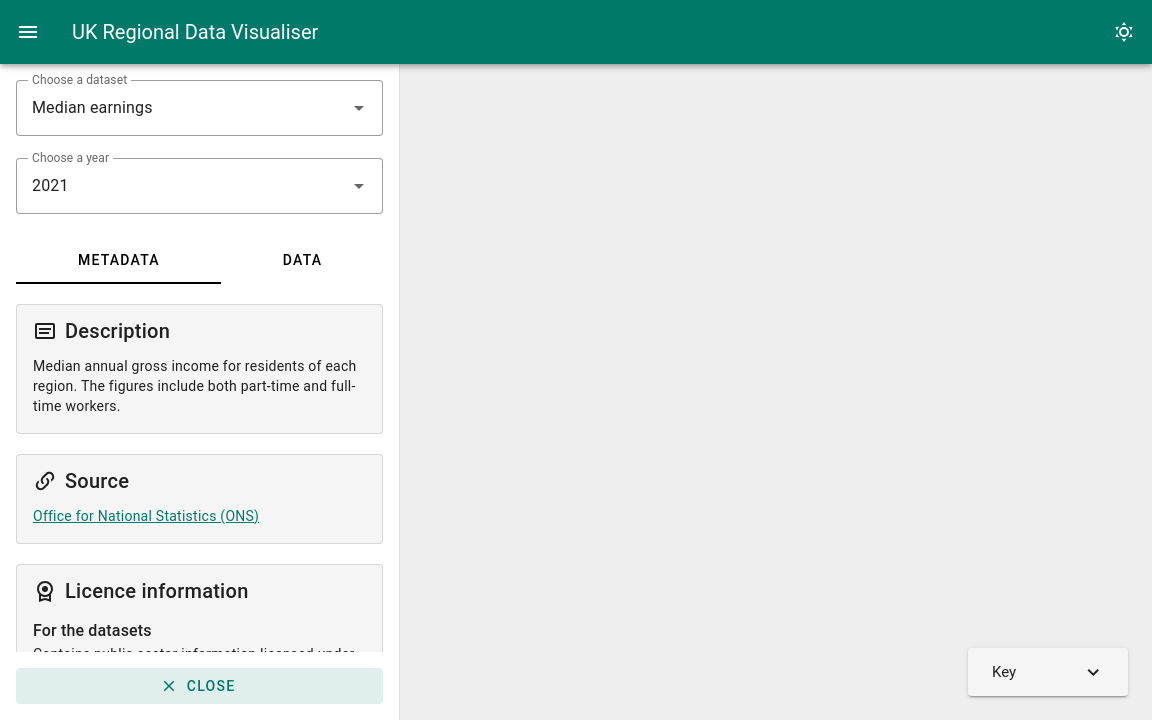
Test: Data details panel › closes data details drawer when the close button is clicked
Check: the navigation bar is shown, box [0, 64, 400, 719]
Click the button with id "close-drawer-button" at x=200, y=686, box [16, 668, 383, 704]
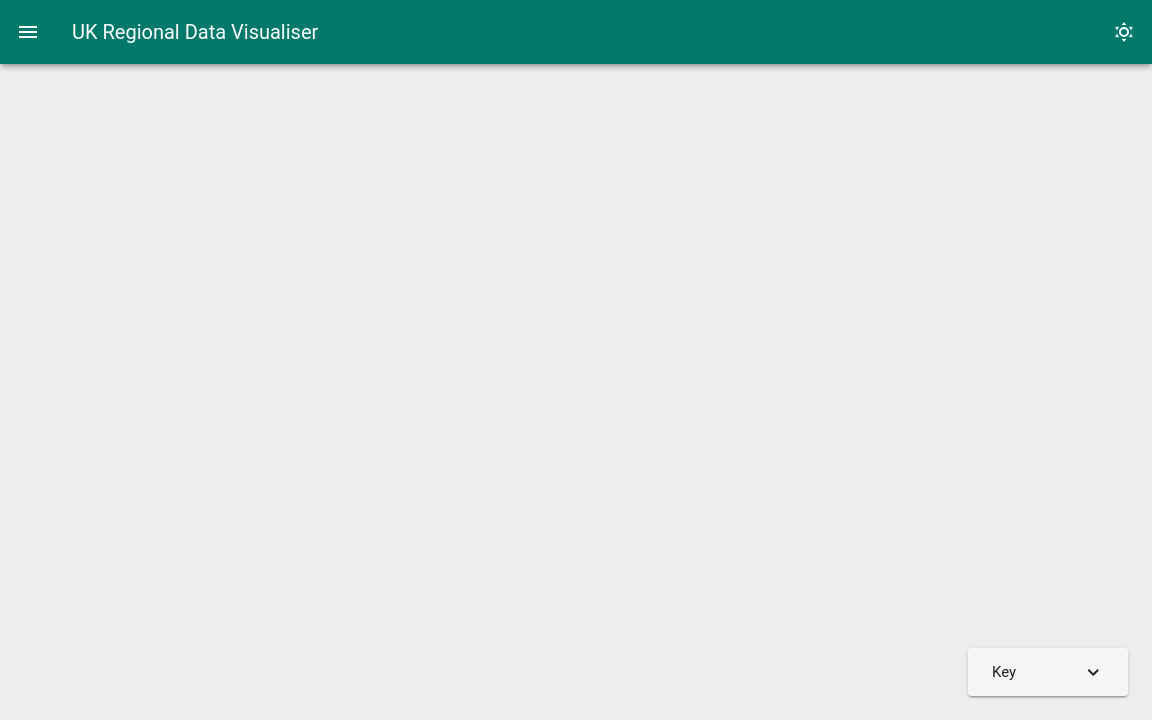
Check: the navigation bar is gone
